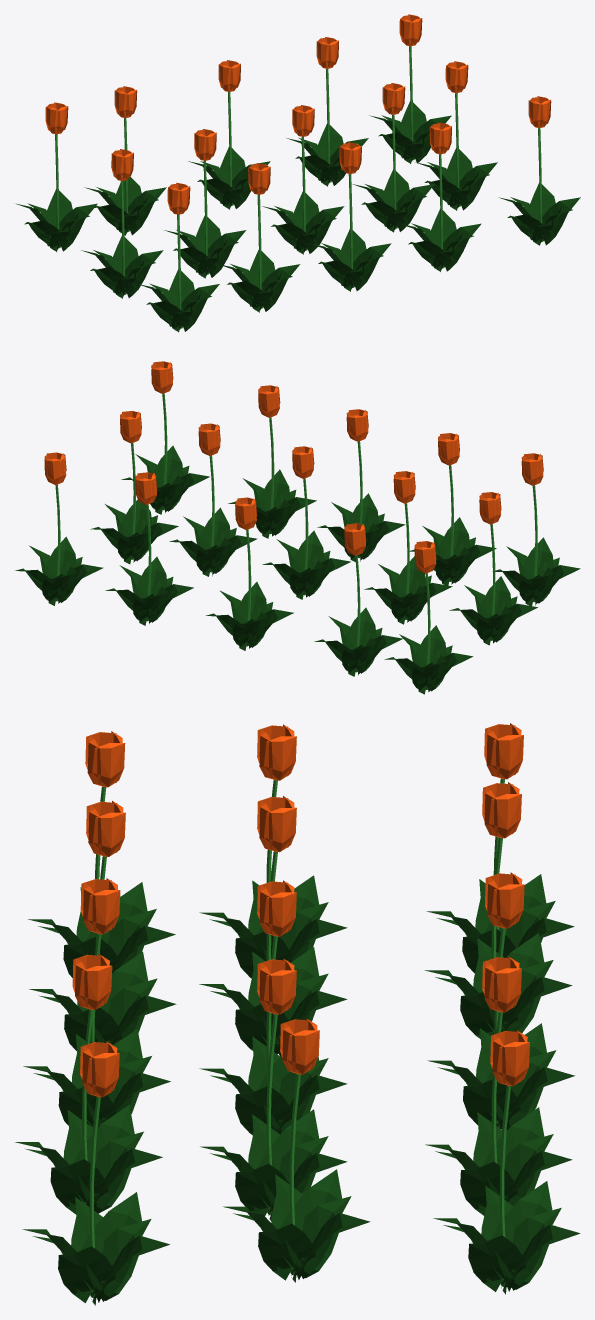
File: tulips.dae
The picture shows the model from 3 angles, top to bottom: view 1: azimuth 30°, elevation 25°; view 2: azimuth 150°, elevation 25°; view 3: azimuth 270°, elevation 25°; orthographic projection. The views are drawn at different scales.
Parts seen in each view (by area): view 1: tulip (×15); view 2: tulip (×15); view 3: tulip (×15).
Boxes of the visible parts, box(x1,y1,x2,y2) form: tulip (×15): box(16, 14, 580, 332); tulip (×15): box(15, 361, 580, 694); tulip (×15): box(15, 723, 580, 1305).
Size of the model in its own units: 2617 by 817 by 1645.
